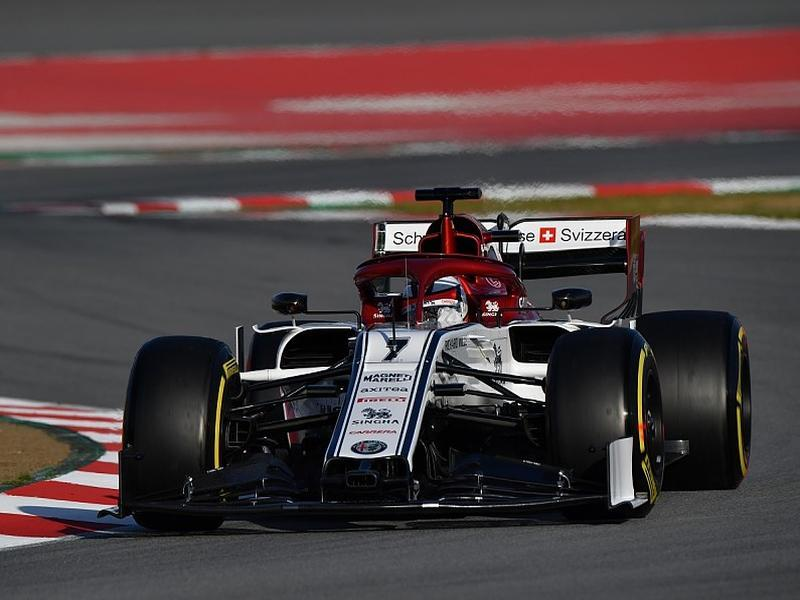f1: (107, 172, 775, 531)
